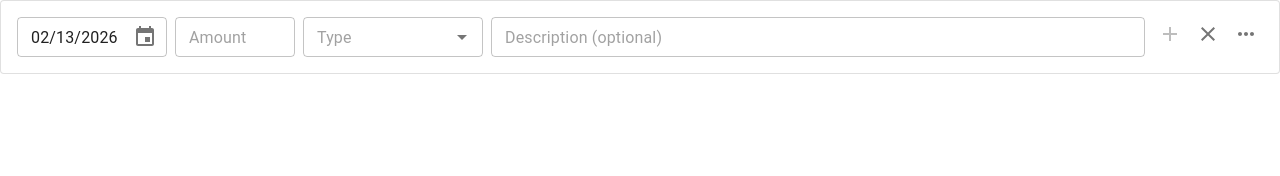
it: QuickEntryRow › Keyboard Navigation › should support search in Autocomplete dropdowns
This screenshot has width=1280, height=176.
Note: Type to search
Type "pay" into the dropdown with placeholder "Type". click: [376, 37]
box: [309,23,444,51]
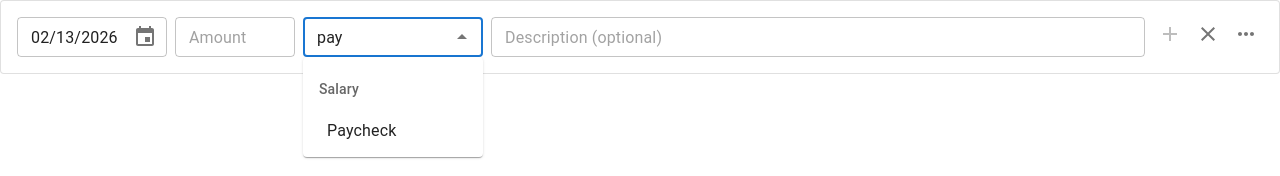
Expected: the option "Paycheck" is shown, [327,121,396,140]
Expected: the option "Groceries" is gone
